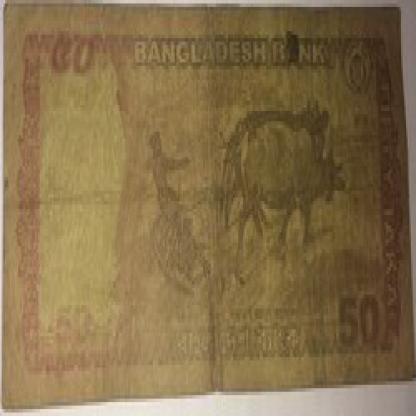Fifty taka: (335, 270, 394, 374), (49, 17, 112, 114)
